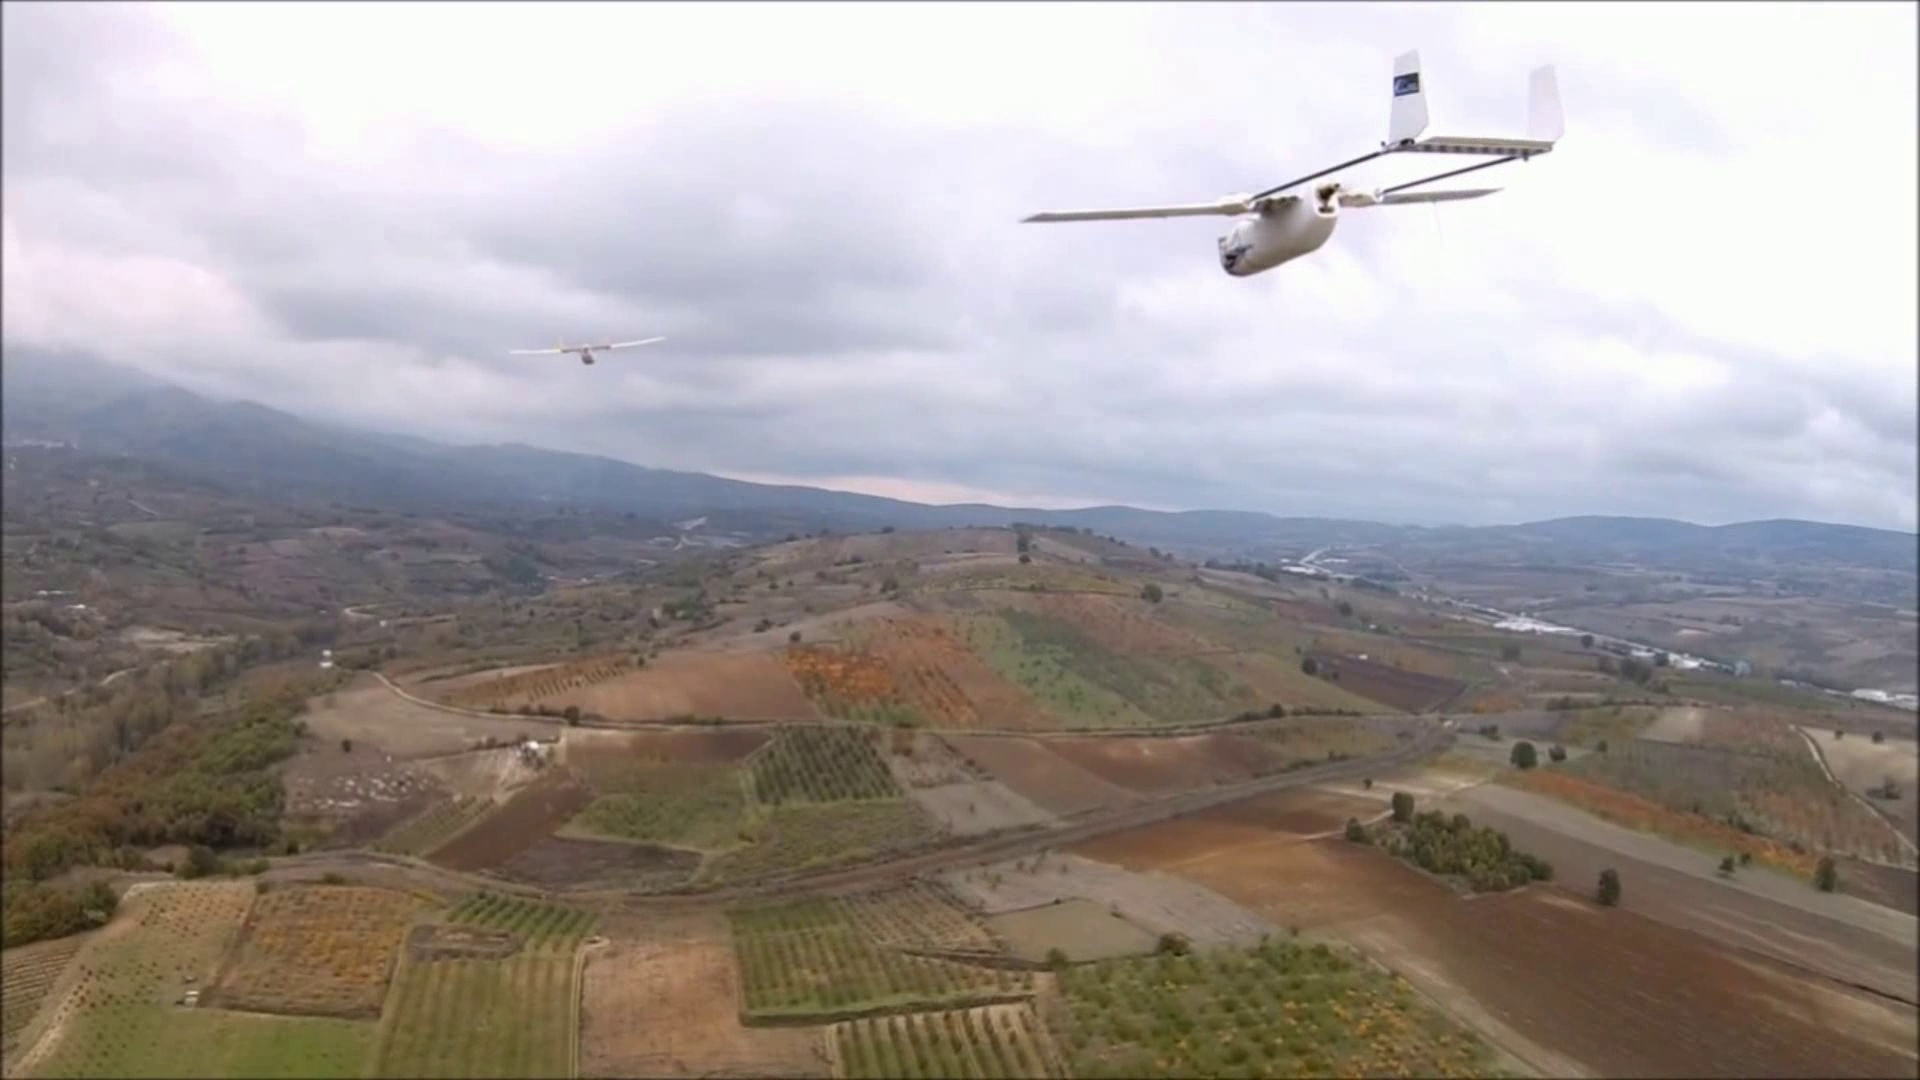airplane: (1017, 57, 1563, 280)
